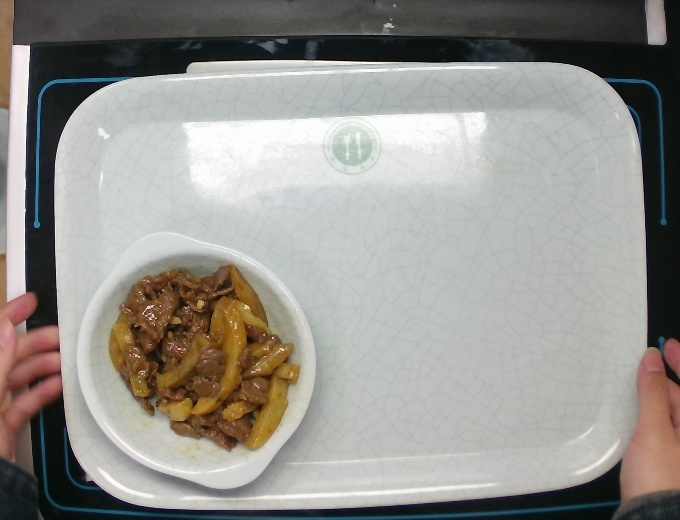JYsf-Shuang_Er_Wan: (74, 226, 319, 492)
